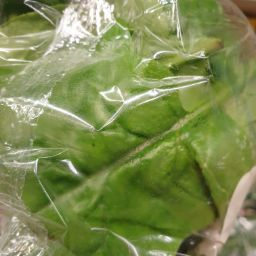Spinach: (5, 8, 190, 256), (29, 55, 226, 200)
